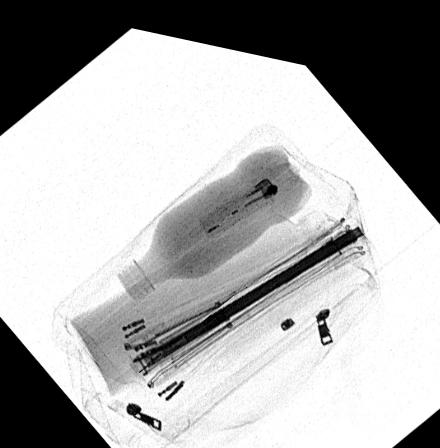Lighter: (195, 164, 279, 231)
